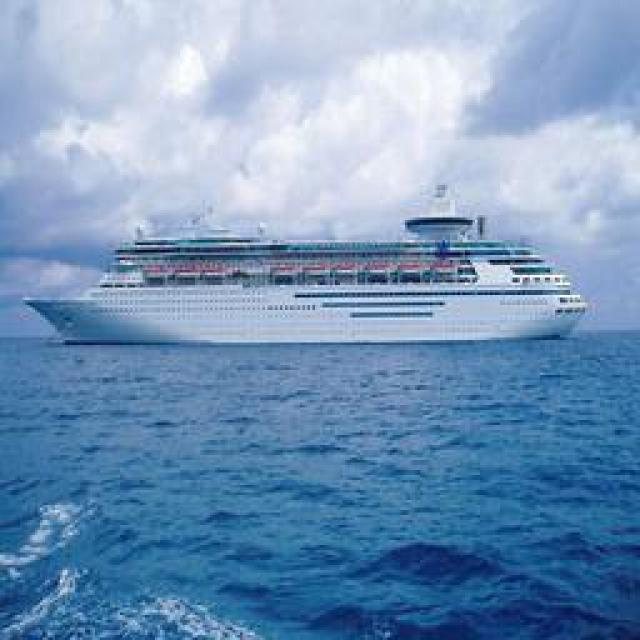Ship: (45, 223, 588, 348)
